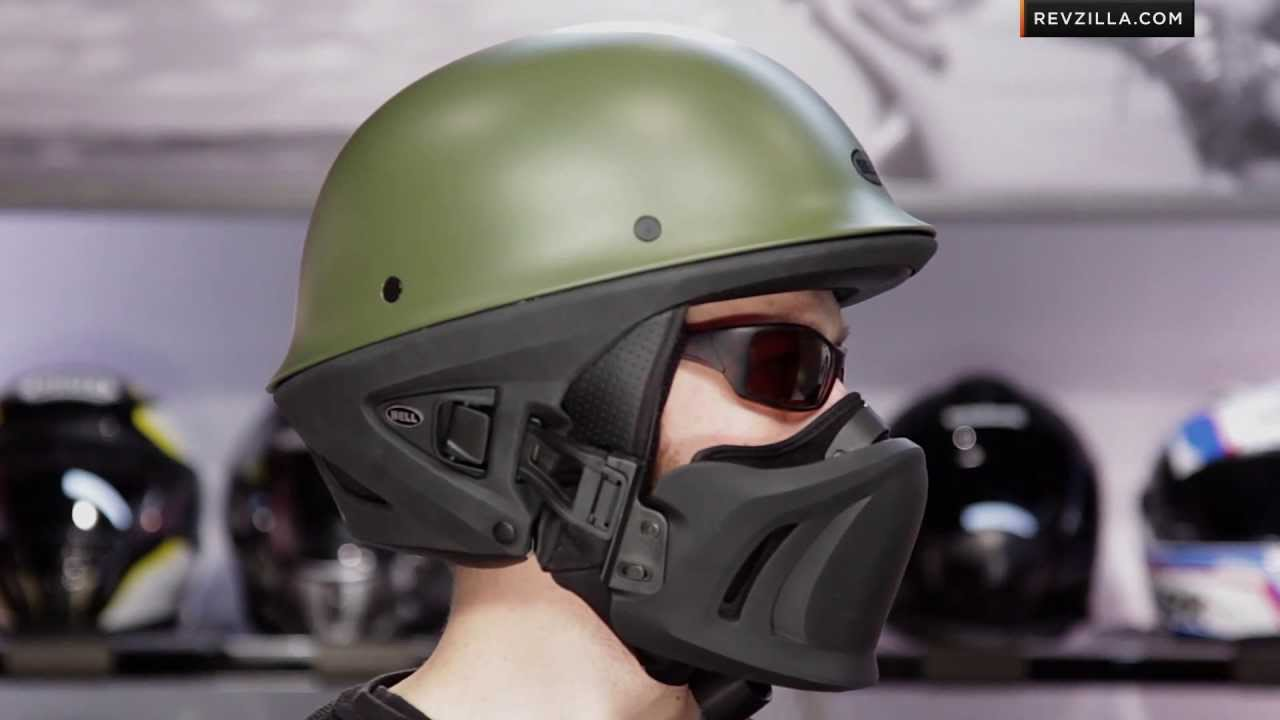with_helmet: (260, 9, 942, 698)
